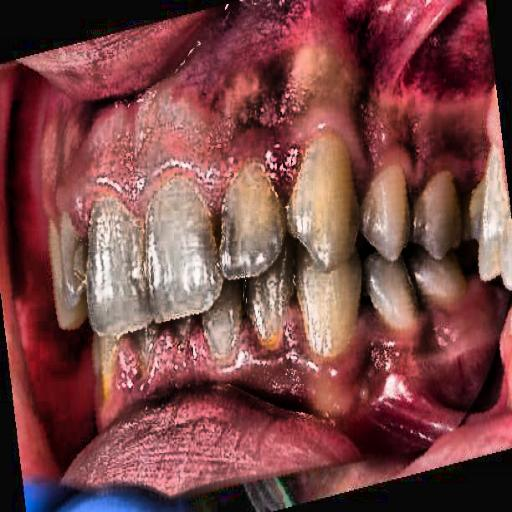Gingivitis: (50, 74, 384, 208)
